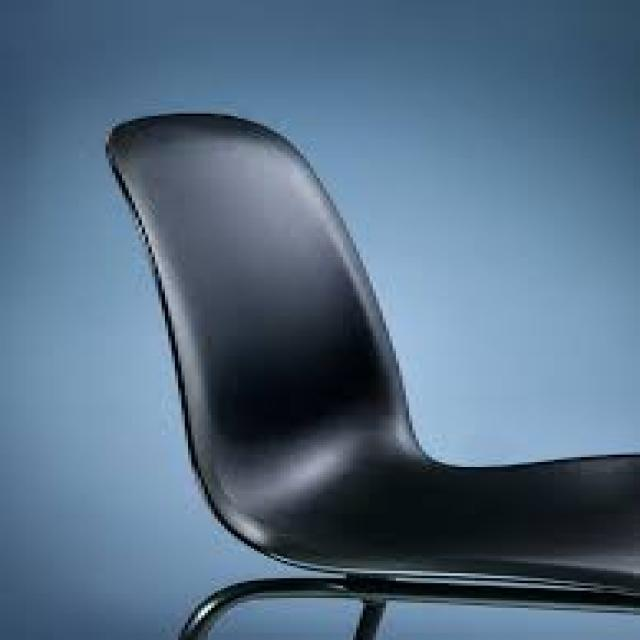chair: (40, 84, 640, 640)
